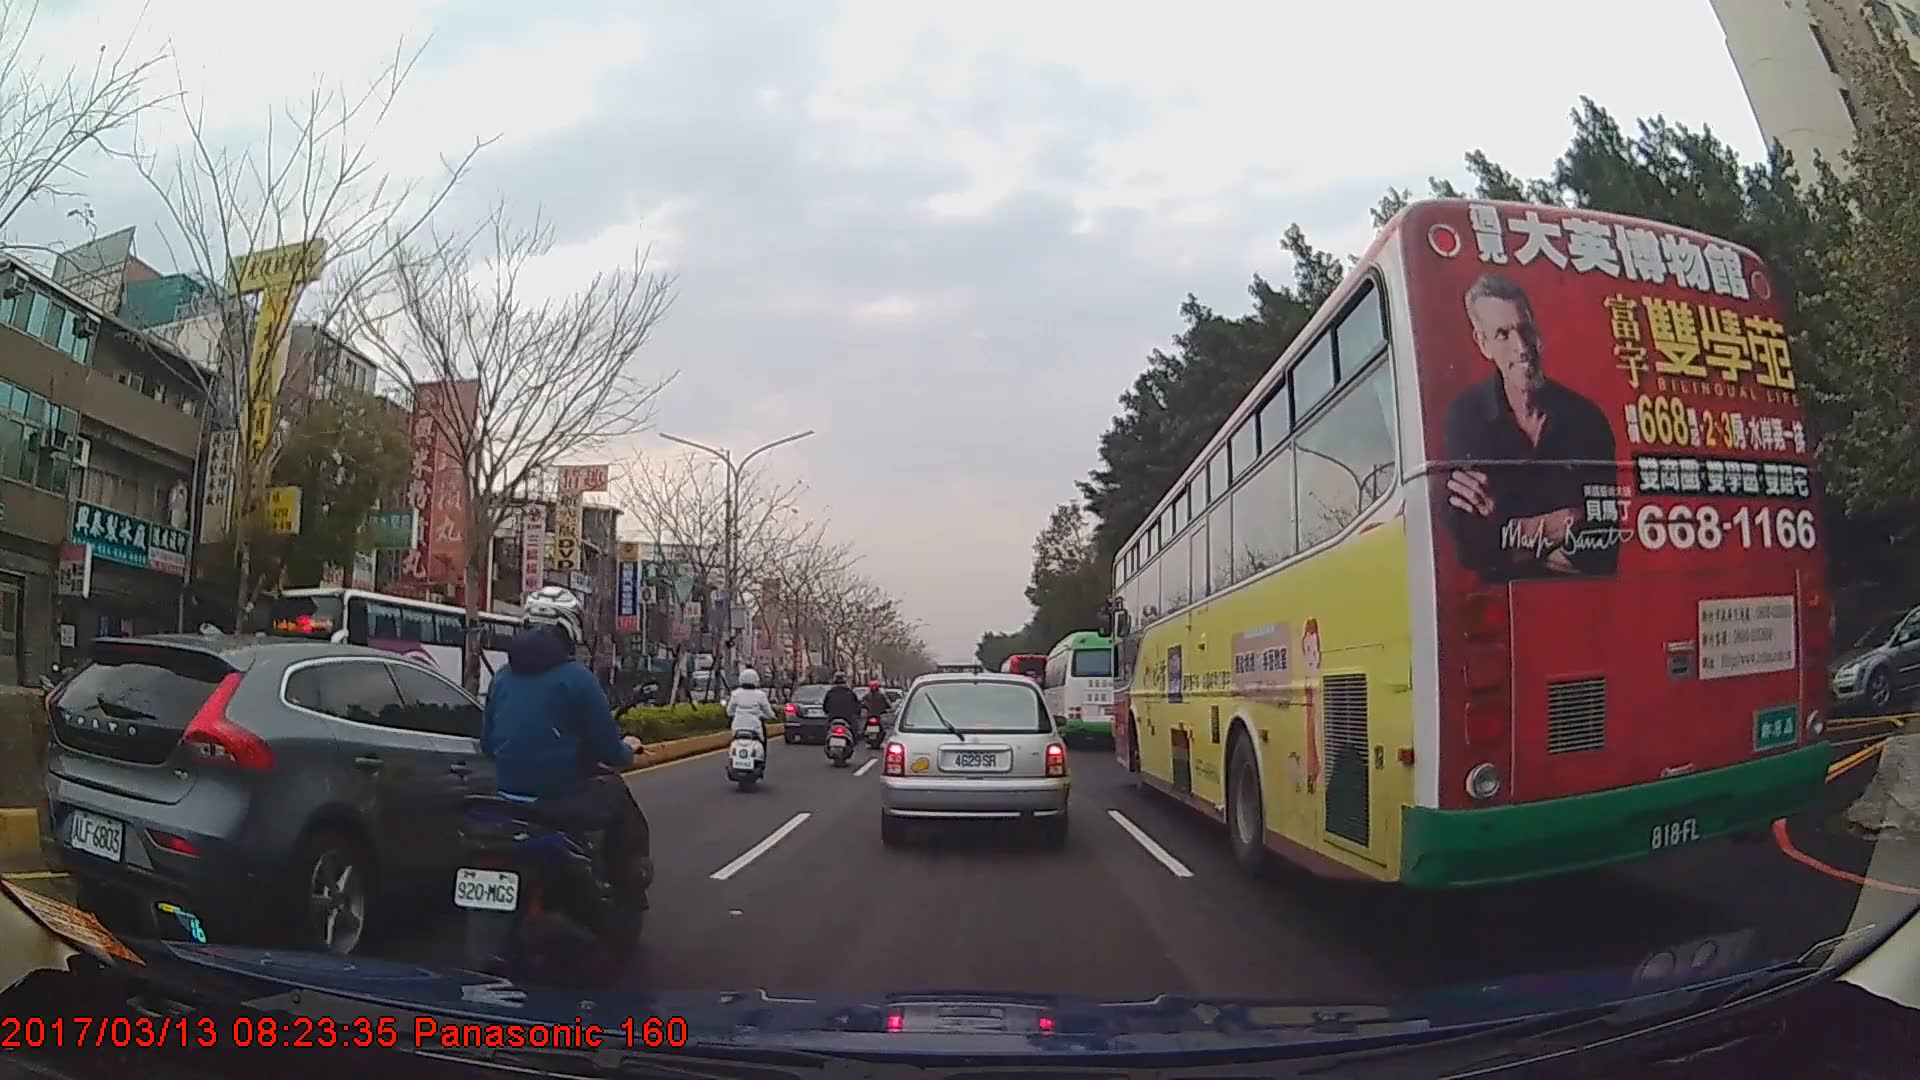rider: (457, 582, 650, 975), (723, 667, 778, 792), (823, 672, 863, 758), (860, 681, 890, 745)
vehicle: (1106, 195, 1830, 897), (37, 630, 590, 966), (272, 585, 543, 757), (884, 671, 1066, 840), (1042, 628, 1148, 748), (1806, 604, 1920, 710), (781, 683, 868, 745), (998, 651, 1057, 726)
